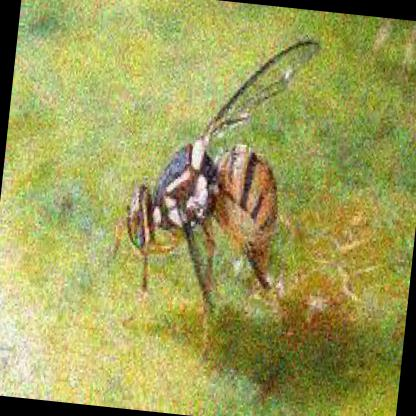fruit fly: (124, 39, 316, 312)
